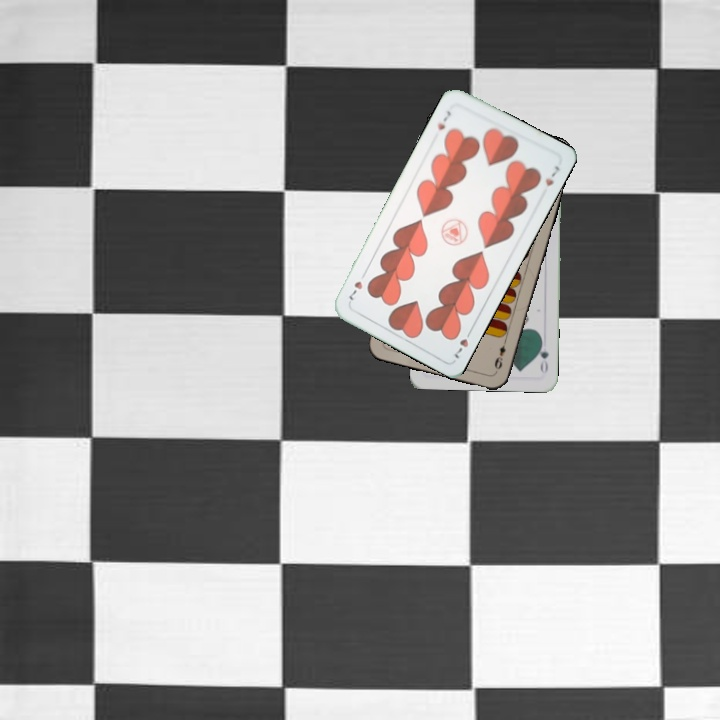E9: (490, 335, 509, 374)
GO: (534, 335, 551, 375)
H7: (450, 324, 475, 362), (433, 107, 454, 132)
